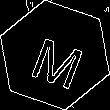M_N: (23, 23, 87, 87)
